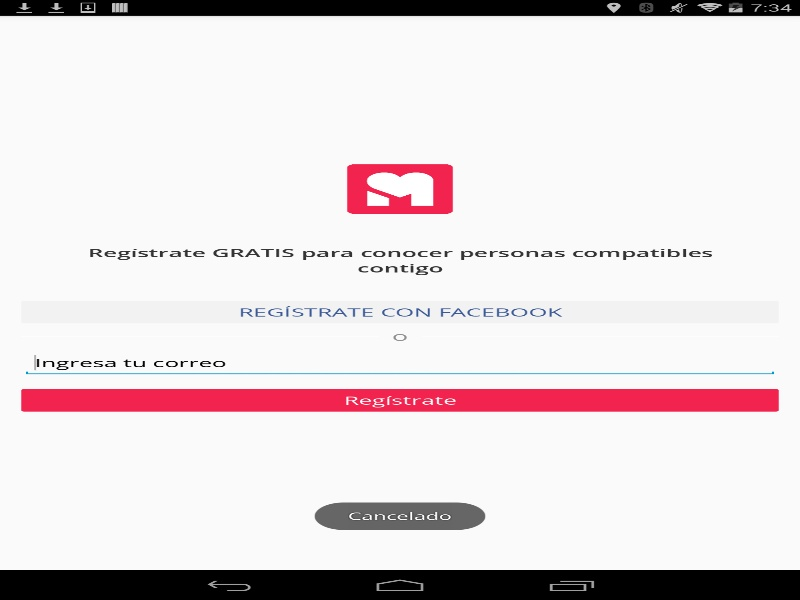Button: (21, 300, 778, 323), (21, 389, 778, 411)
Input: (21, 349, 778, 376)
